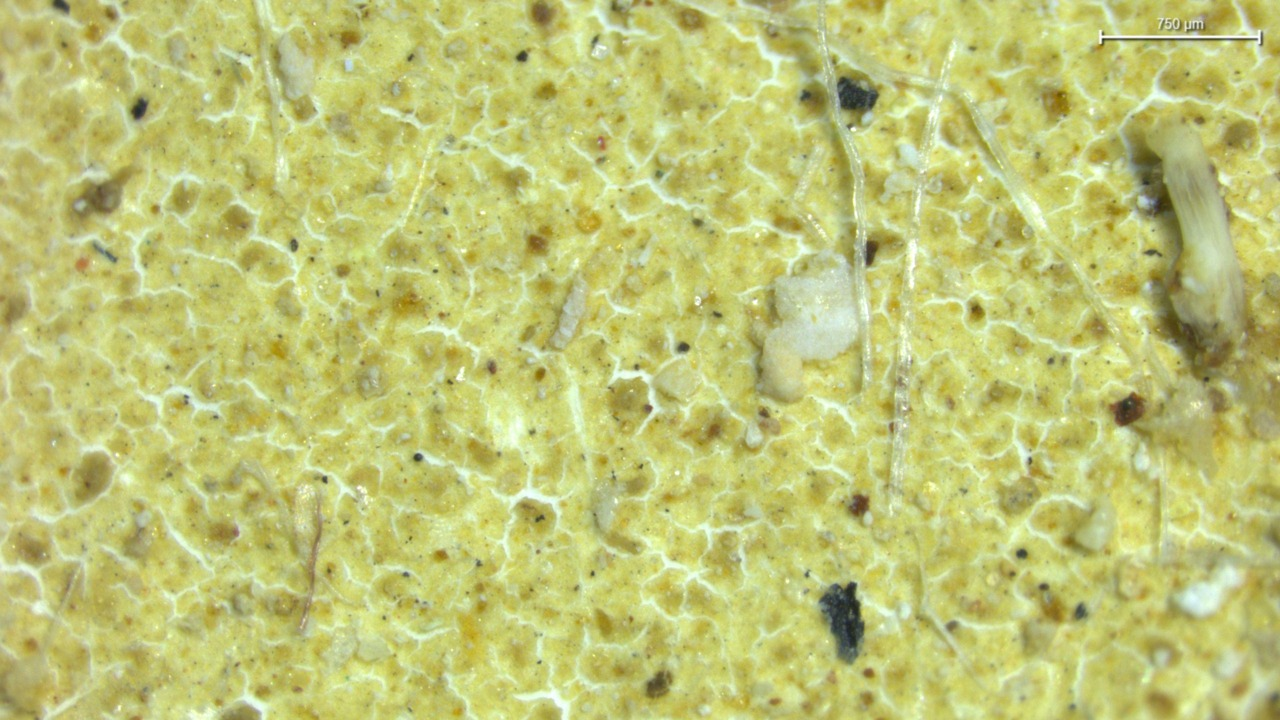microplastic_fragment: (759, 252, 860, 402)
